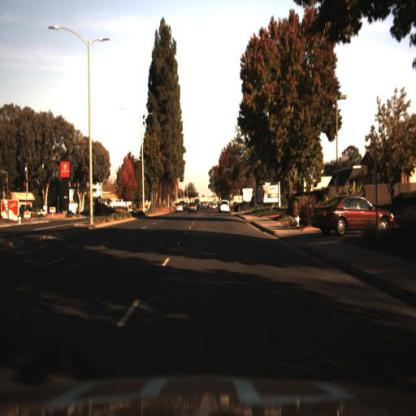car: (307, 186, 397, 243), (218, 198, 231, 216), (173, 198, 186, 214), (187, 197, 197, 215)
